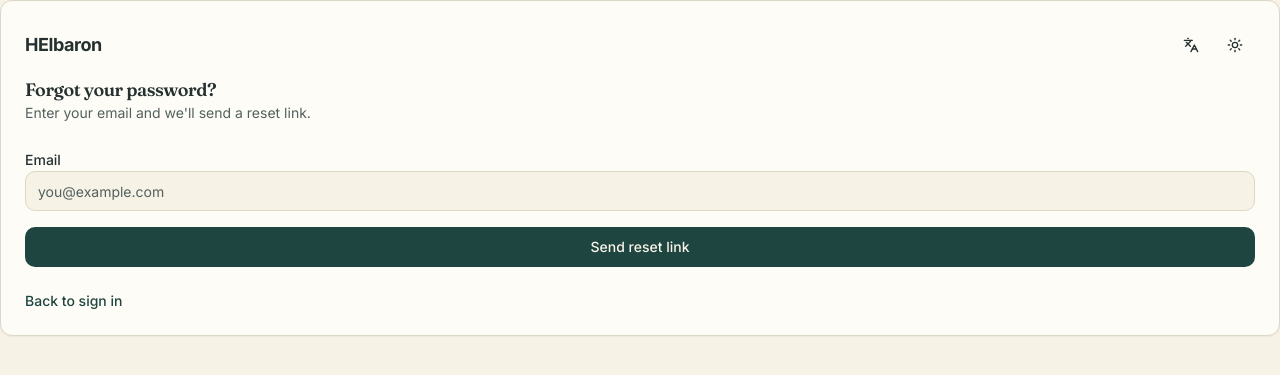
Test: ForgotPasswordPage › rejects an invalid email
Type "not-an-email" into the field labelled "Email" at (640,191), box 25,171 -> 1255,211
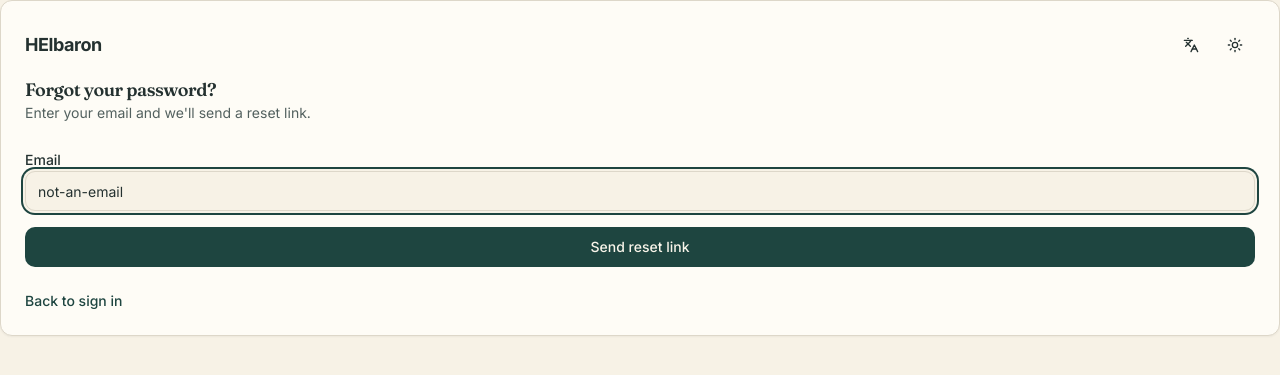
Click the button "Send reset link" at (640,247), box 25,227 -> 1255,267
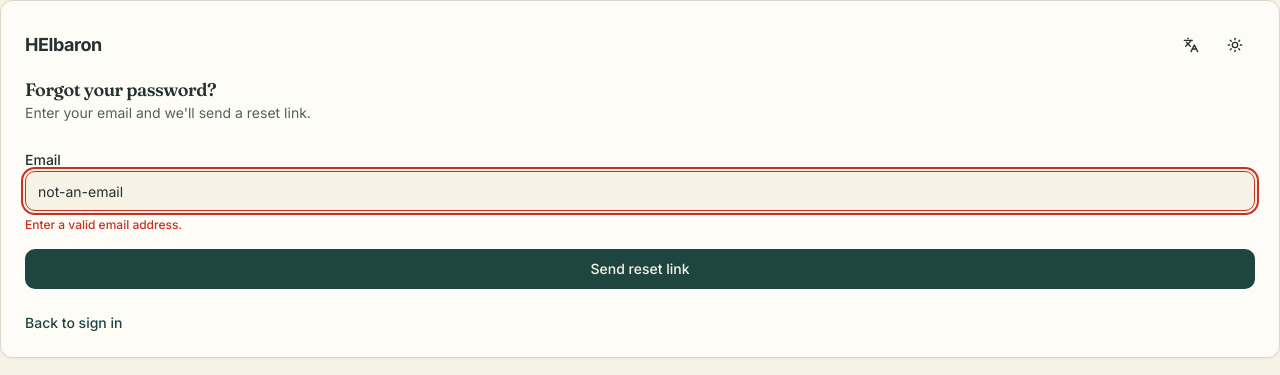
Expected: the text "Enter a valid email address." is shown, 25,217 -> 182,232
